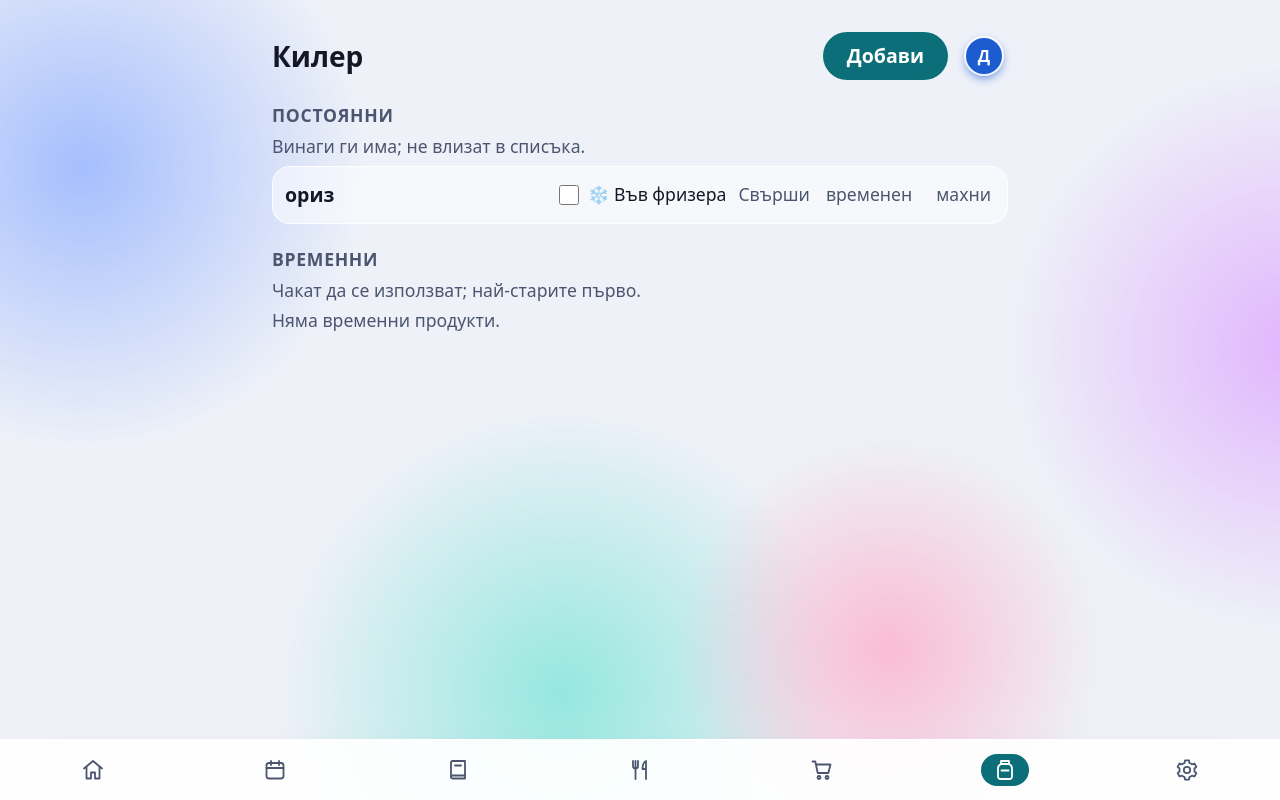
Test: PantryScreen › „Добави“: продукт, който вече е в килера, не се предлага
The width and height of the screenshot is (1280, 800).
Expected: the text "ориз" is shown, [285, 182, 334, 207]
Click the button "Добави". click: (885,56)
box: [823, 32, 948, 80]
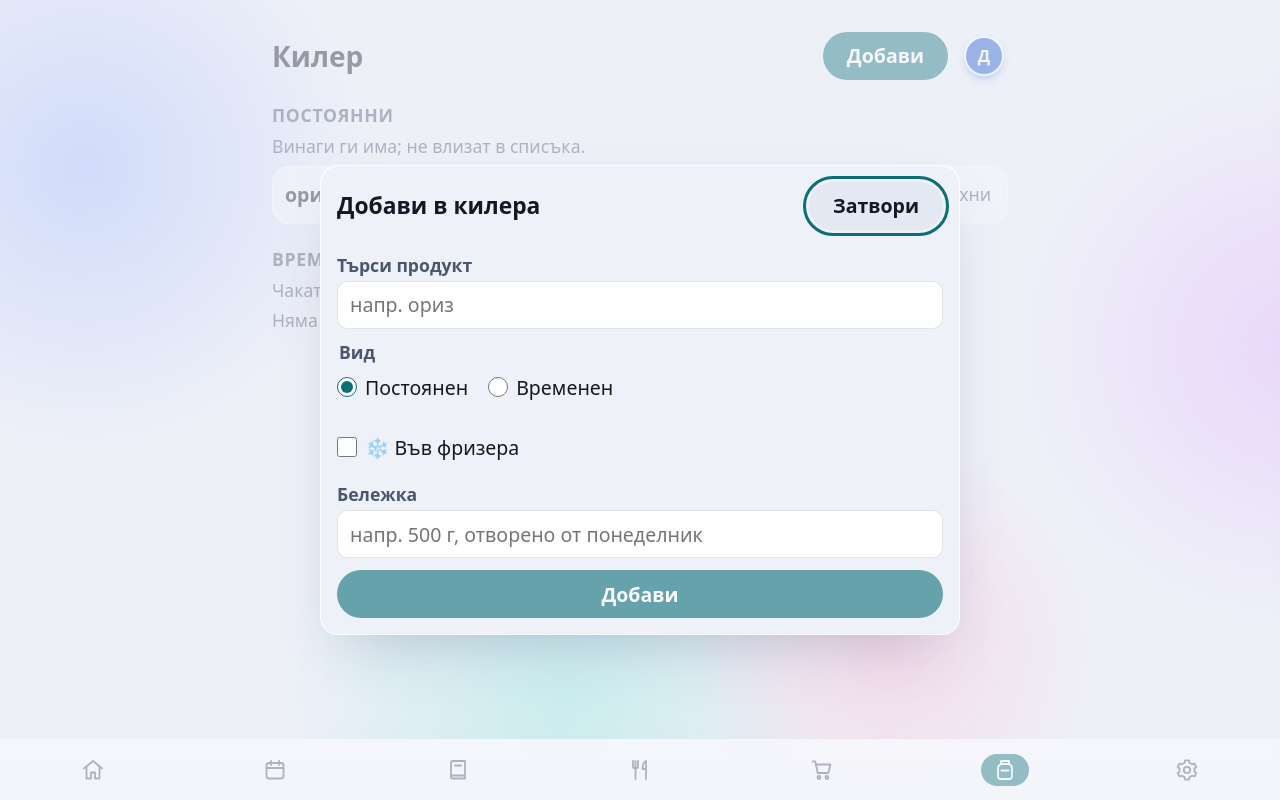
Type "о" into the search field labelled "Търси продукт". click: (640,305)
box: [337, 281, 943, 329]
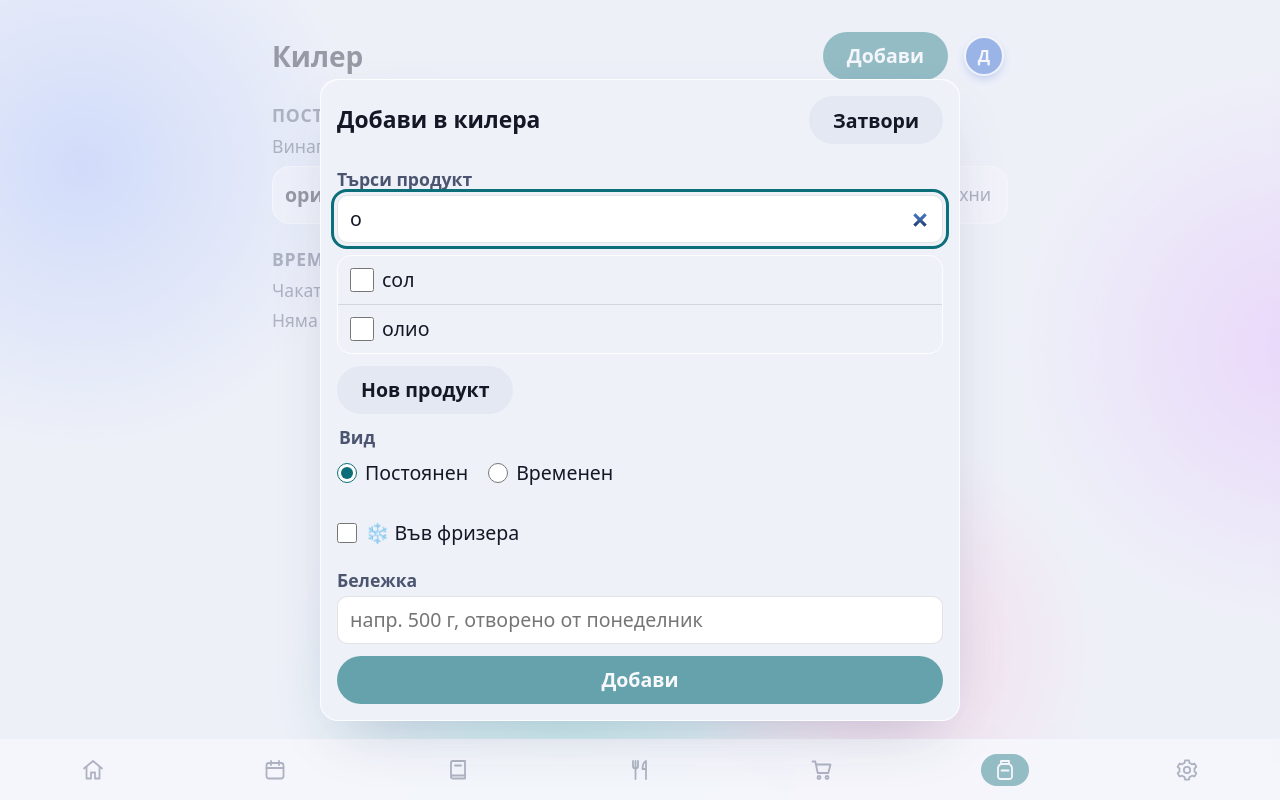
Now the checkbox labelled "олио" is shown, box [350, 317, 374, 341]
